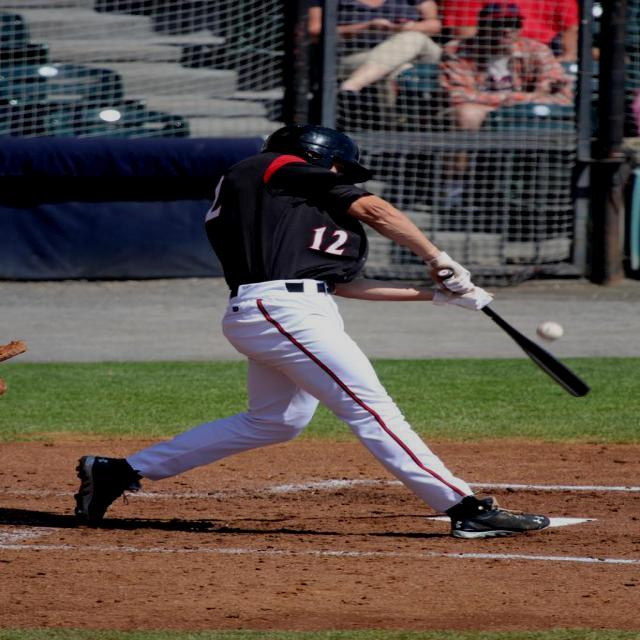ball: (538, 320, 568, 342)
bat: (482, 306, 590, 399)
